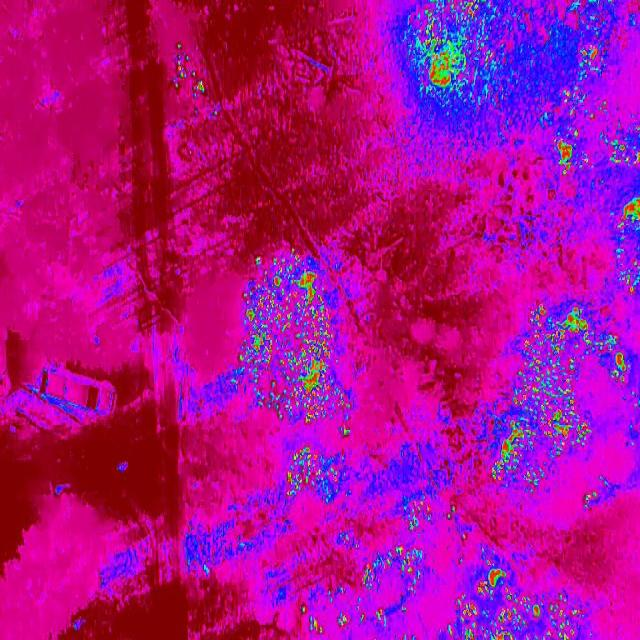fire: (231, 257, 359, 433), (494, 301, 596, 493), (400, 0, 539, 105), (315, 534, 425, 632), (446, 569, 586, 640), (546, 52, 610, 174), (603, 126, 640, 289), (278, 442, 352, 502), (604, 326, 636, 402)
